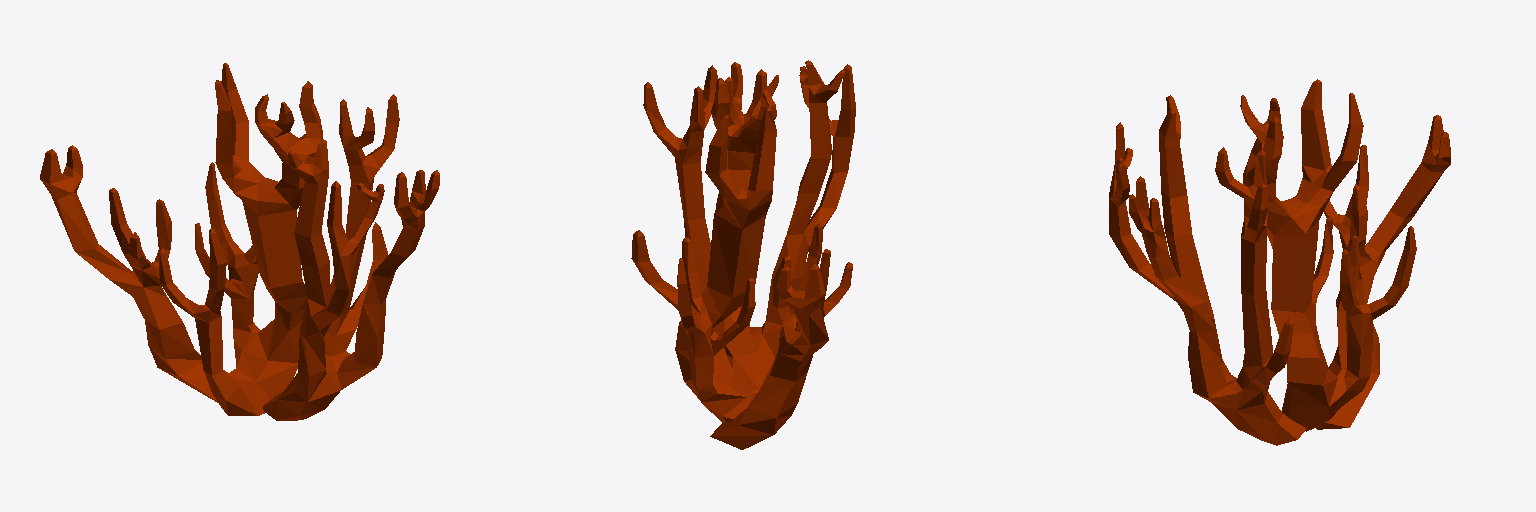
File: Object_FireCoral1.obj
3 views of the same model, side by side, from view 1: azimuth 30°, elevation 25°; view 2: azimuth 150°, elevation 25°; view 3: azimuth 270°, elevation 25° (orthographic).
Parts seen in each view (by area): view 1: FireCoral1; view 2: FireCoral1; view 3: FireCoral1.
Boxes of the visible parts, <box> form: FireCoral1: <box>40,63,439,420</box>; FireCoral1: <box>631,60,855,449</box>; FireCoral1: <box>1109,79,1450,445</box>.
Bounding box in the file's own units: 1.18 × 1.41 × 1.31.